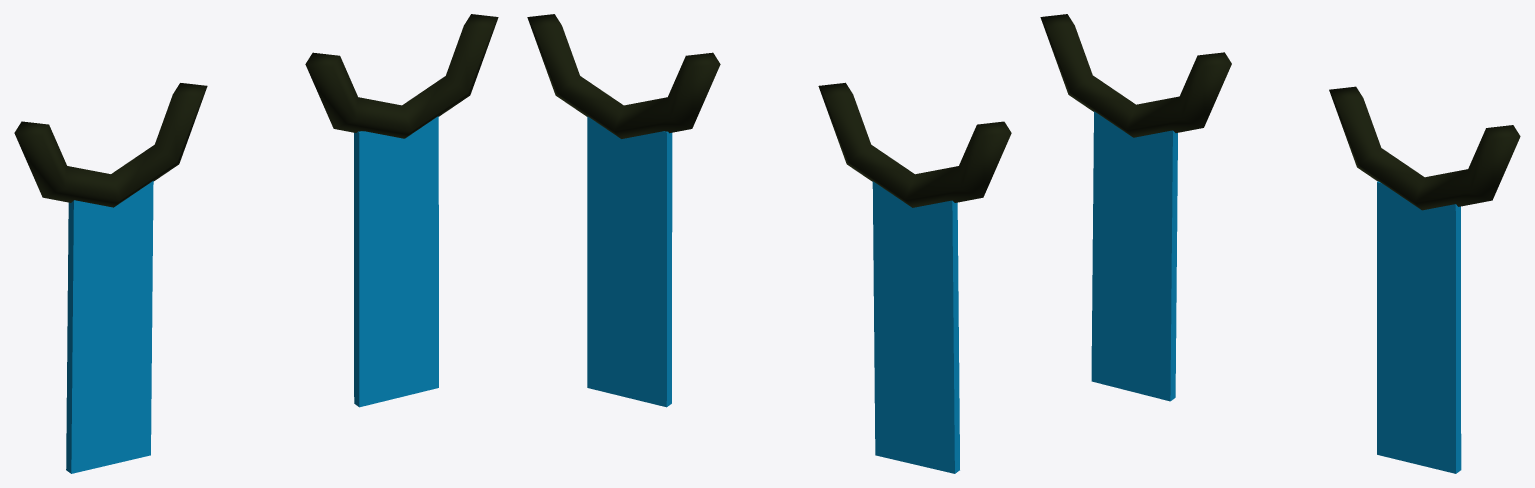
The model's file is Cry.glb.
3 views of the same model, side by side, from view 1: azimuth 30°, elevation 25°; view 2: azimuth 150°, elevation 25°; view 3: azimuth 330°, elevation 25° (orthographic).
Parts seen in each view (by area): view 1: Cry; view 2: Cry; view 3: Cry.
Boxes of the visible parts, x1,y1,x2,y2 form: Cry: (14,14,498,473); Cry: (527,14,1011,473); Cry: (1040,14,1520,473).
Bounding box in the file's own units: 4.59 × 3.22 × 0.3295.
1 material, 1 textured.
